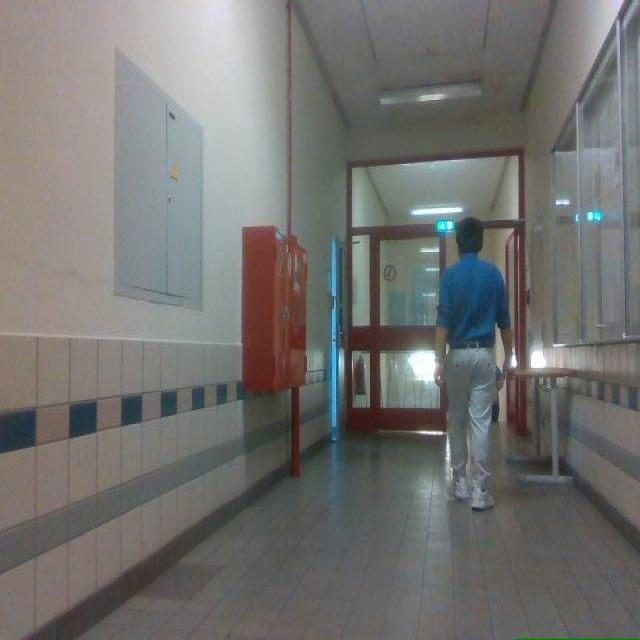humans: (435, 218, 511, 510)
